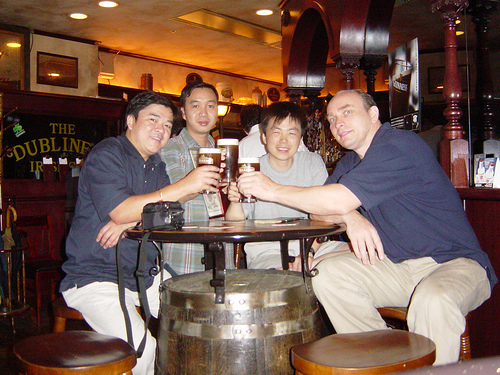without_mask: (325, 93, 380, 151), (125, 101, 174, 154), (262, 113, 305, 160), (180, 89, 219, 132)
